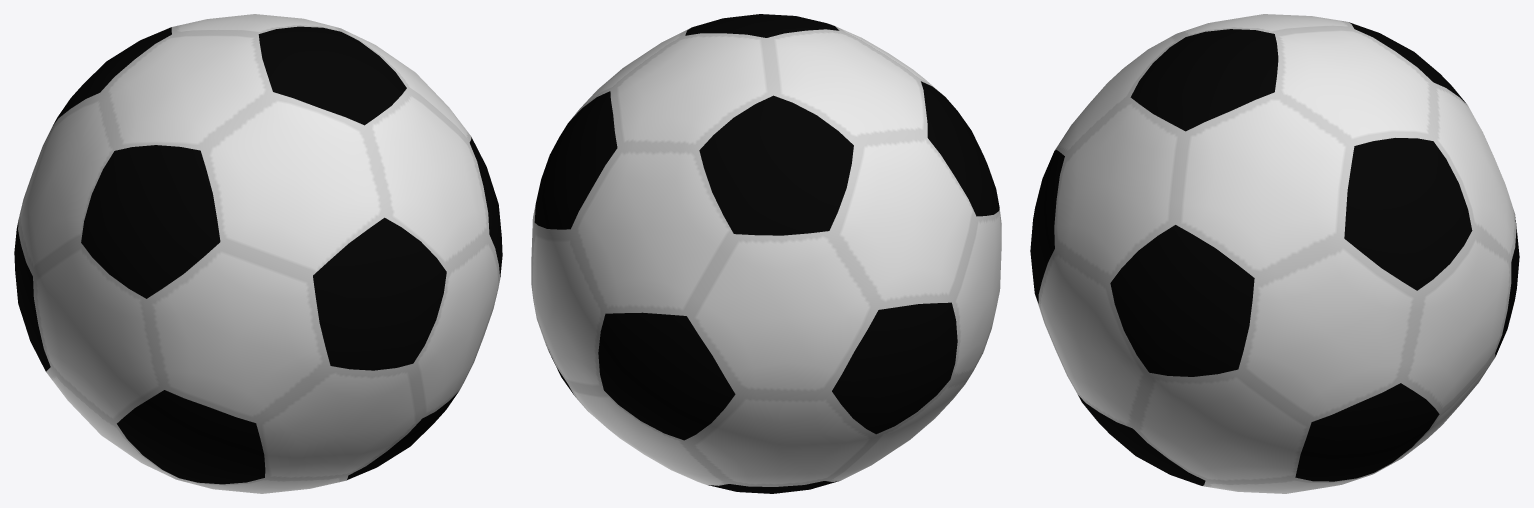
File: soccerball.fbx
3 views of the same model, side by side, from view 1: azimuth 30°, elevation 25°; view 2: azimuth 150°, elevation 25°; view 3: azimuth 270°, elevation 25° (orthographic).
Visible parts, largest first — view 1: pSolid1; view 2: pSolid1; view 3: pSolid1.
Part boxes in pixels (x1,y1,x2,y2): pSolid1: (14, 14, 502, 493); pSolid1: (531, 14, 1001, 493); pSolid1: (1030, 14, 1519, 493).
Bounding box in the file's own units: 3.61 × 3.63 × 3.66.
